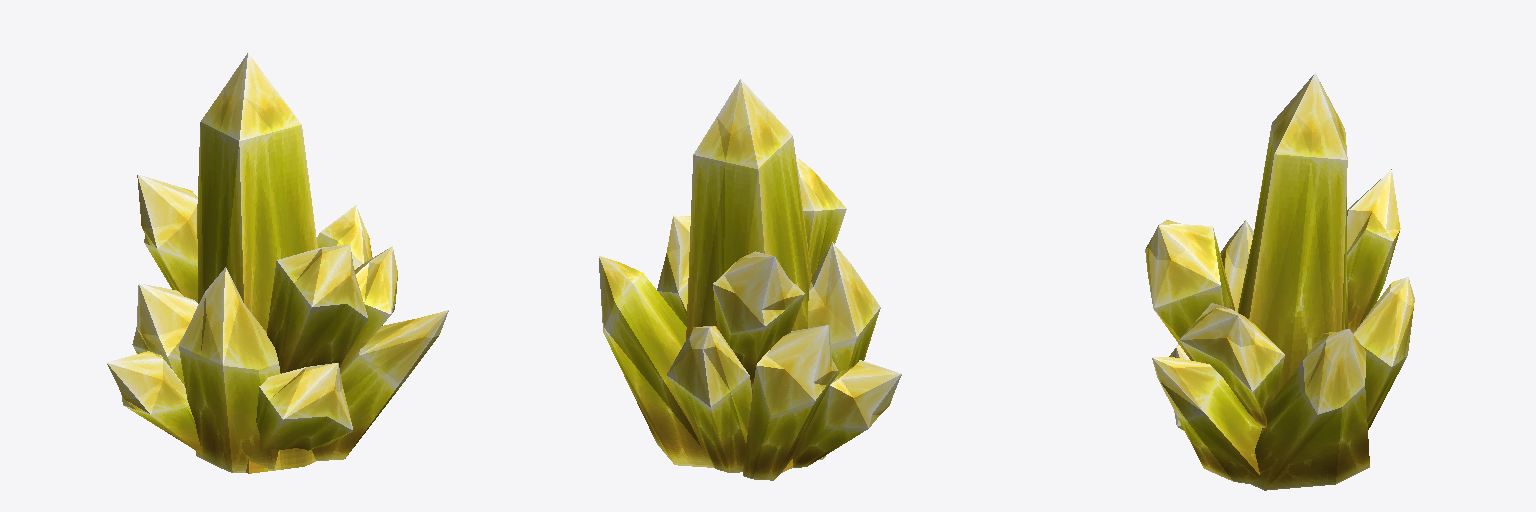
3 views of the same model, side by side, from view 1: azimuth 30°, elevation 25°; view 2: azimuth 150°, elevation 25°; view 3: azimuth 270°, elevation 25° (orthographic).
Parts seen in each view (by area): view 1: sholazar_crystal_05; view 2: sholazar_crystal_05; view 3: sholazar_crystal_05.
Part boxes in pixels (x1,y1,x2,y2): sholazar_crystal_05: (107,53,448,473); sholazar_crystal_05: (599,79,901,480); sholazar_crystal_05: (1145,73,1414,490).
Size of the model in its own units: 1.72 by 2.18 by 1.42.
Materials: 1 (1 with a texture image).